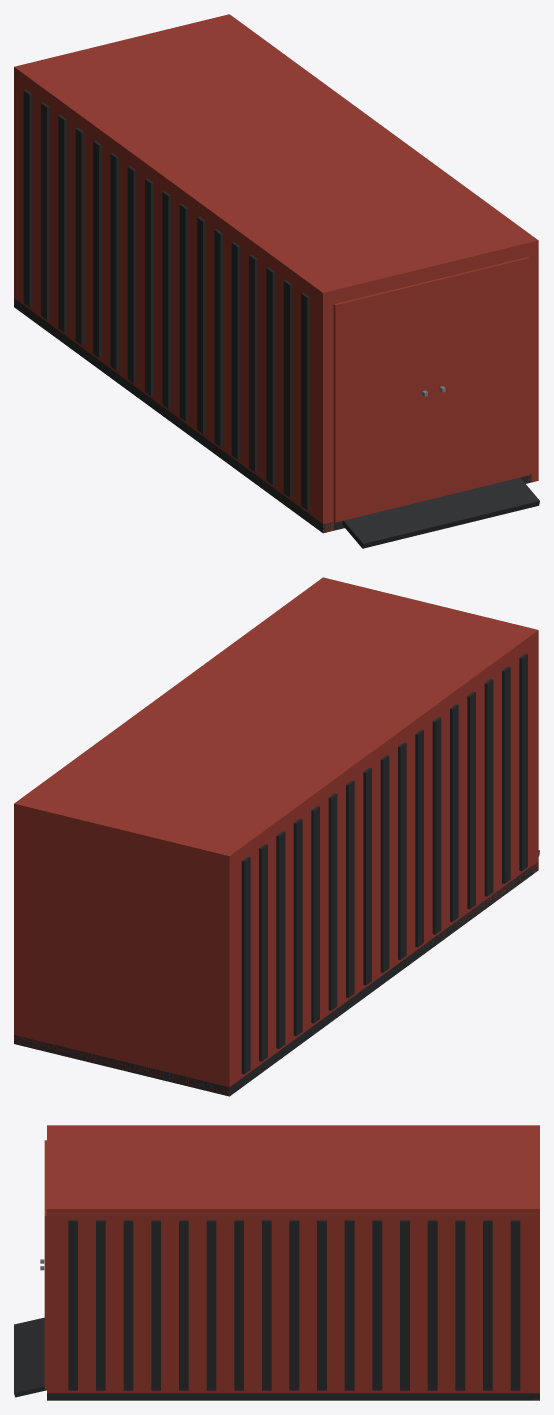
The model's file is container_interior.glb.
3 renders of one model, top to bottom at view 1: azimuth 30°, elevation 25°; view 2: azimuth 150°, elevation 25°; view 3: azimuth 270°, elevation 25°, orthographic. The views are drawn at different scales.
Parts seen in each view (by area): view 1: Shell, Dressing, Door_L, Door_R; view 2: Shell, Dressing; view 3: Shell, Dressing, Door_R.
Part boxes in pixels (x1=…): Shell: x1=14, y1=14, x2=539, y2=548; Dressing: x1=23, y1=89, x2=309, y2=510; Door_L: x1=333, y1=280, x2=432, y2=522; Door_R: x1=431, y1=257, x2=529, y2=498; Shell: x1=14, y1=577, x2=539, y2=1096; Dressing: x1=241, y1=653, x2=527, y2=1074; Shell: x1=14, y1=1125, x2=539, y2=1400; Dressing: x1=68, y1=1220, x2=520, y2=1390; Door_R: x1=40, y1=1178, x2=46, y2=1389.
Bounding box in the file's own units: 2.5 × 2.66 × 6.47.
